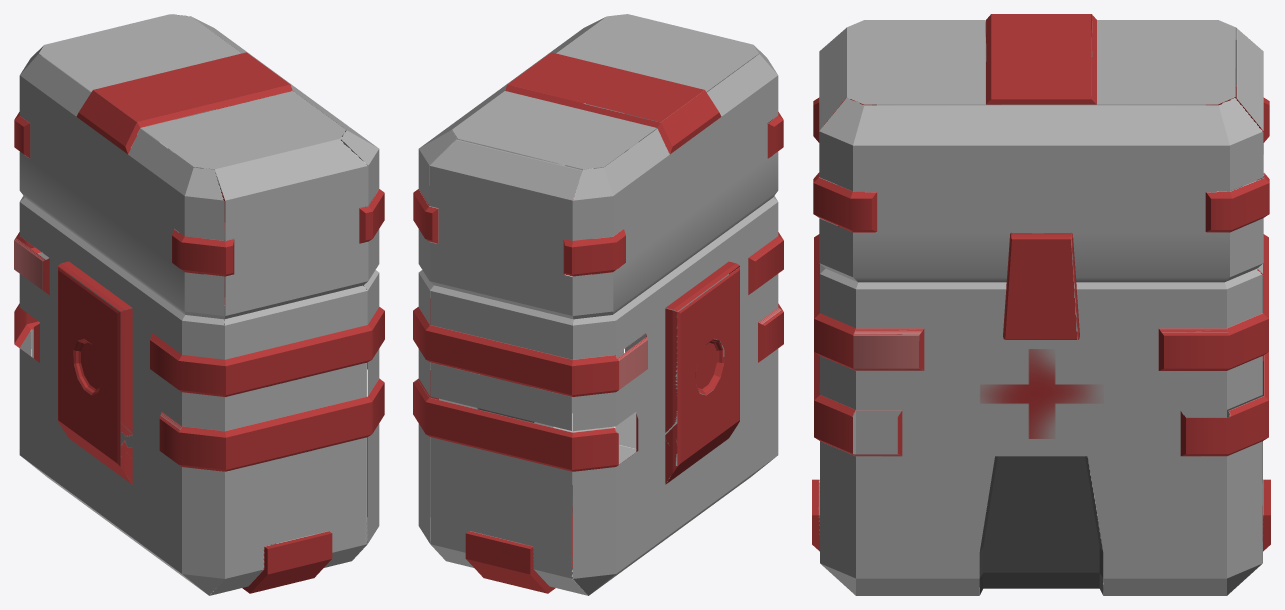
File: SM_Medkit_AC.fbx
3 renders of one model, left to right at view 1: azimuth 30°, elevation 25°; view 2: azimuth 150°, elevation 25°; view 3: azimuth 270°, elevation 25°, orthographic. The views are drawn at different scales.
Parts seen in each view (by area): view 1: SM_Medkit_AC; view 2: SM_Medkit_AC; view 3: SM_Medkit_AC.
Part boxes in pixels (x1,y1,x2,y2): SM_Medkit_AC: [14, 14, 384, 595]; SM_Medkit_AC: [413, 14, 783, 595]; SM_Medkit_AC: [812, 14, 1270, 595].
Size of the model in its own units: 22.8 by 44 by 36.42.
1 material, 1 textured.
